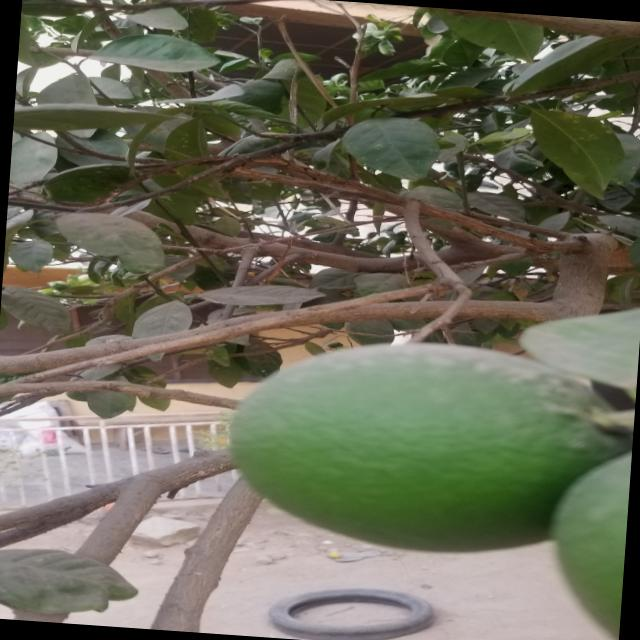Unripe: (220, 332, 609, 561), (533, 450, 631, 640)
